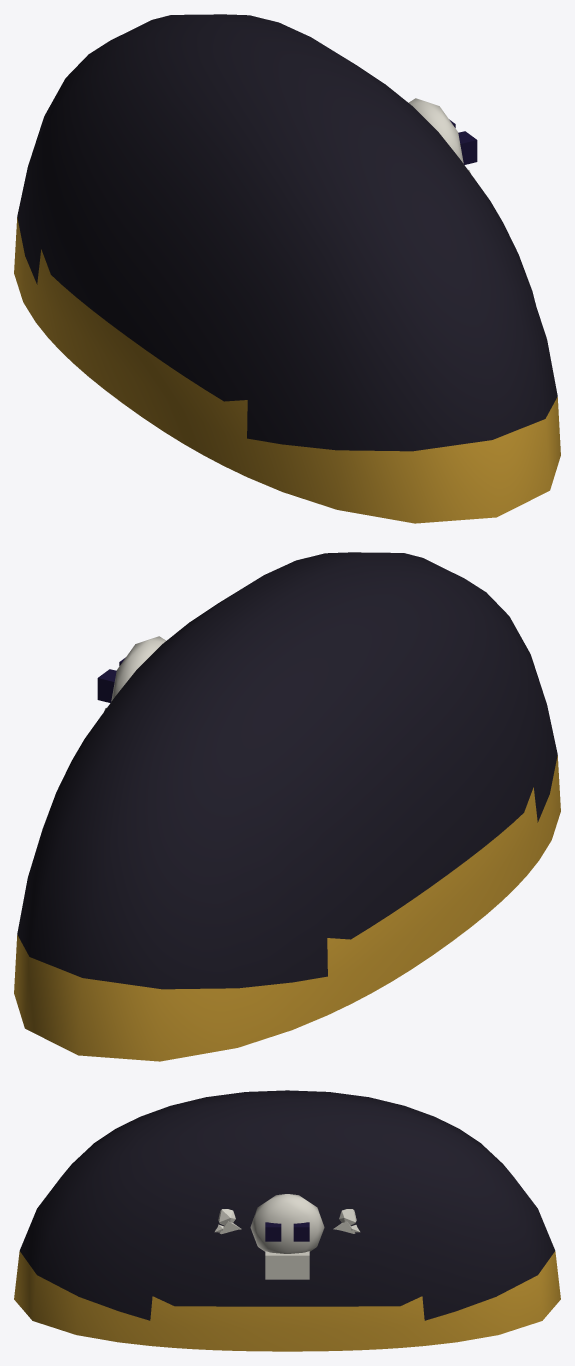
The model's file is pirate.glb.
3 views of the same model, one above another, from view 1: azimuth 30°, elevation 25°; view 2: azimuth 150°, elevation 25°; view 3: azimuth 270°, elevation 25° (orthographic). The views are drawn at different scales.
Visible parts, largest first — view 1: Hat, Skull; view 2: Hat, Skull; view 3: Hat, Skull.
Part boxes in pixels (x1,y1,x2,y2): Hat: (14,14,560,523); Skull: (408,98,477,173); Hat: (14,552,560,1061); Skull: (97,636,166,711); Hat: (14,1090,560,1351); Skull: (214,1194,360,1279).
Size of the model in its own units: 0.288 by 0.25 by 0.62.
